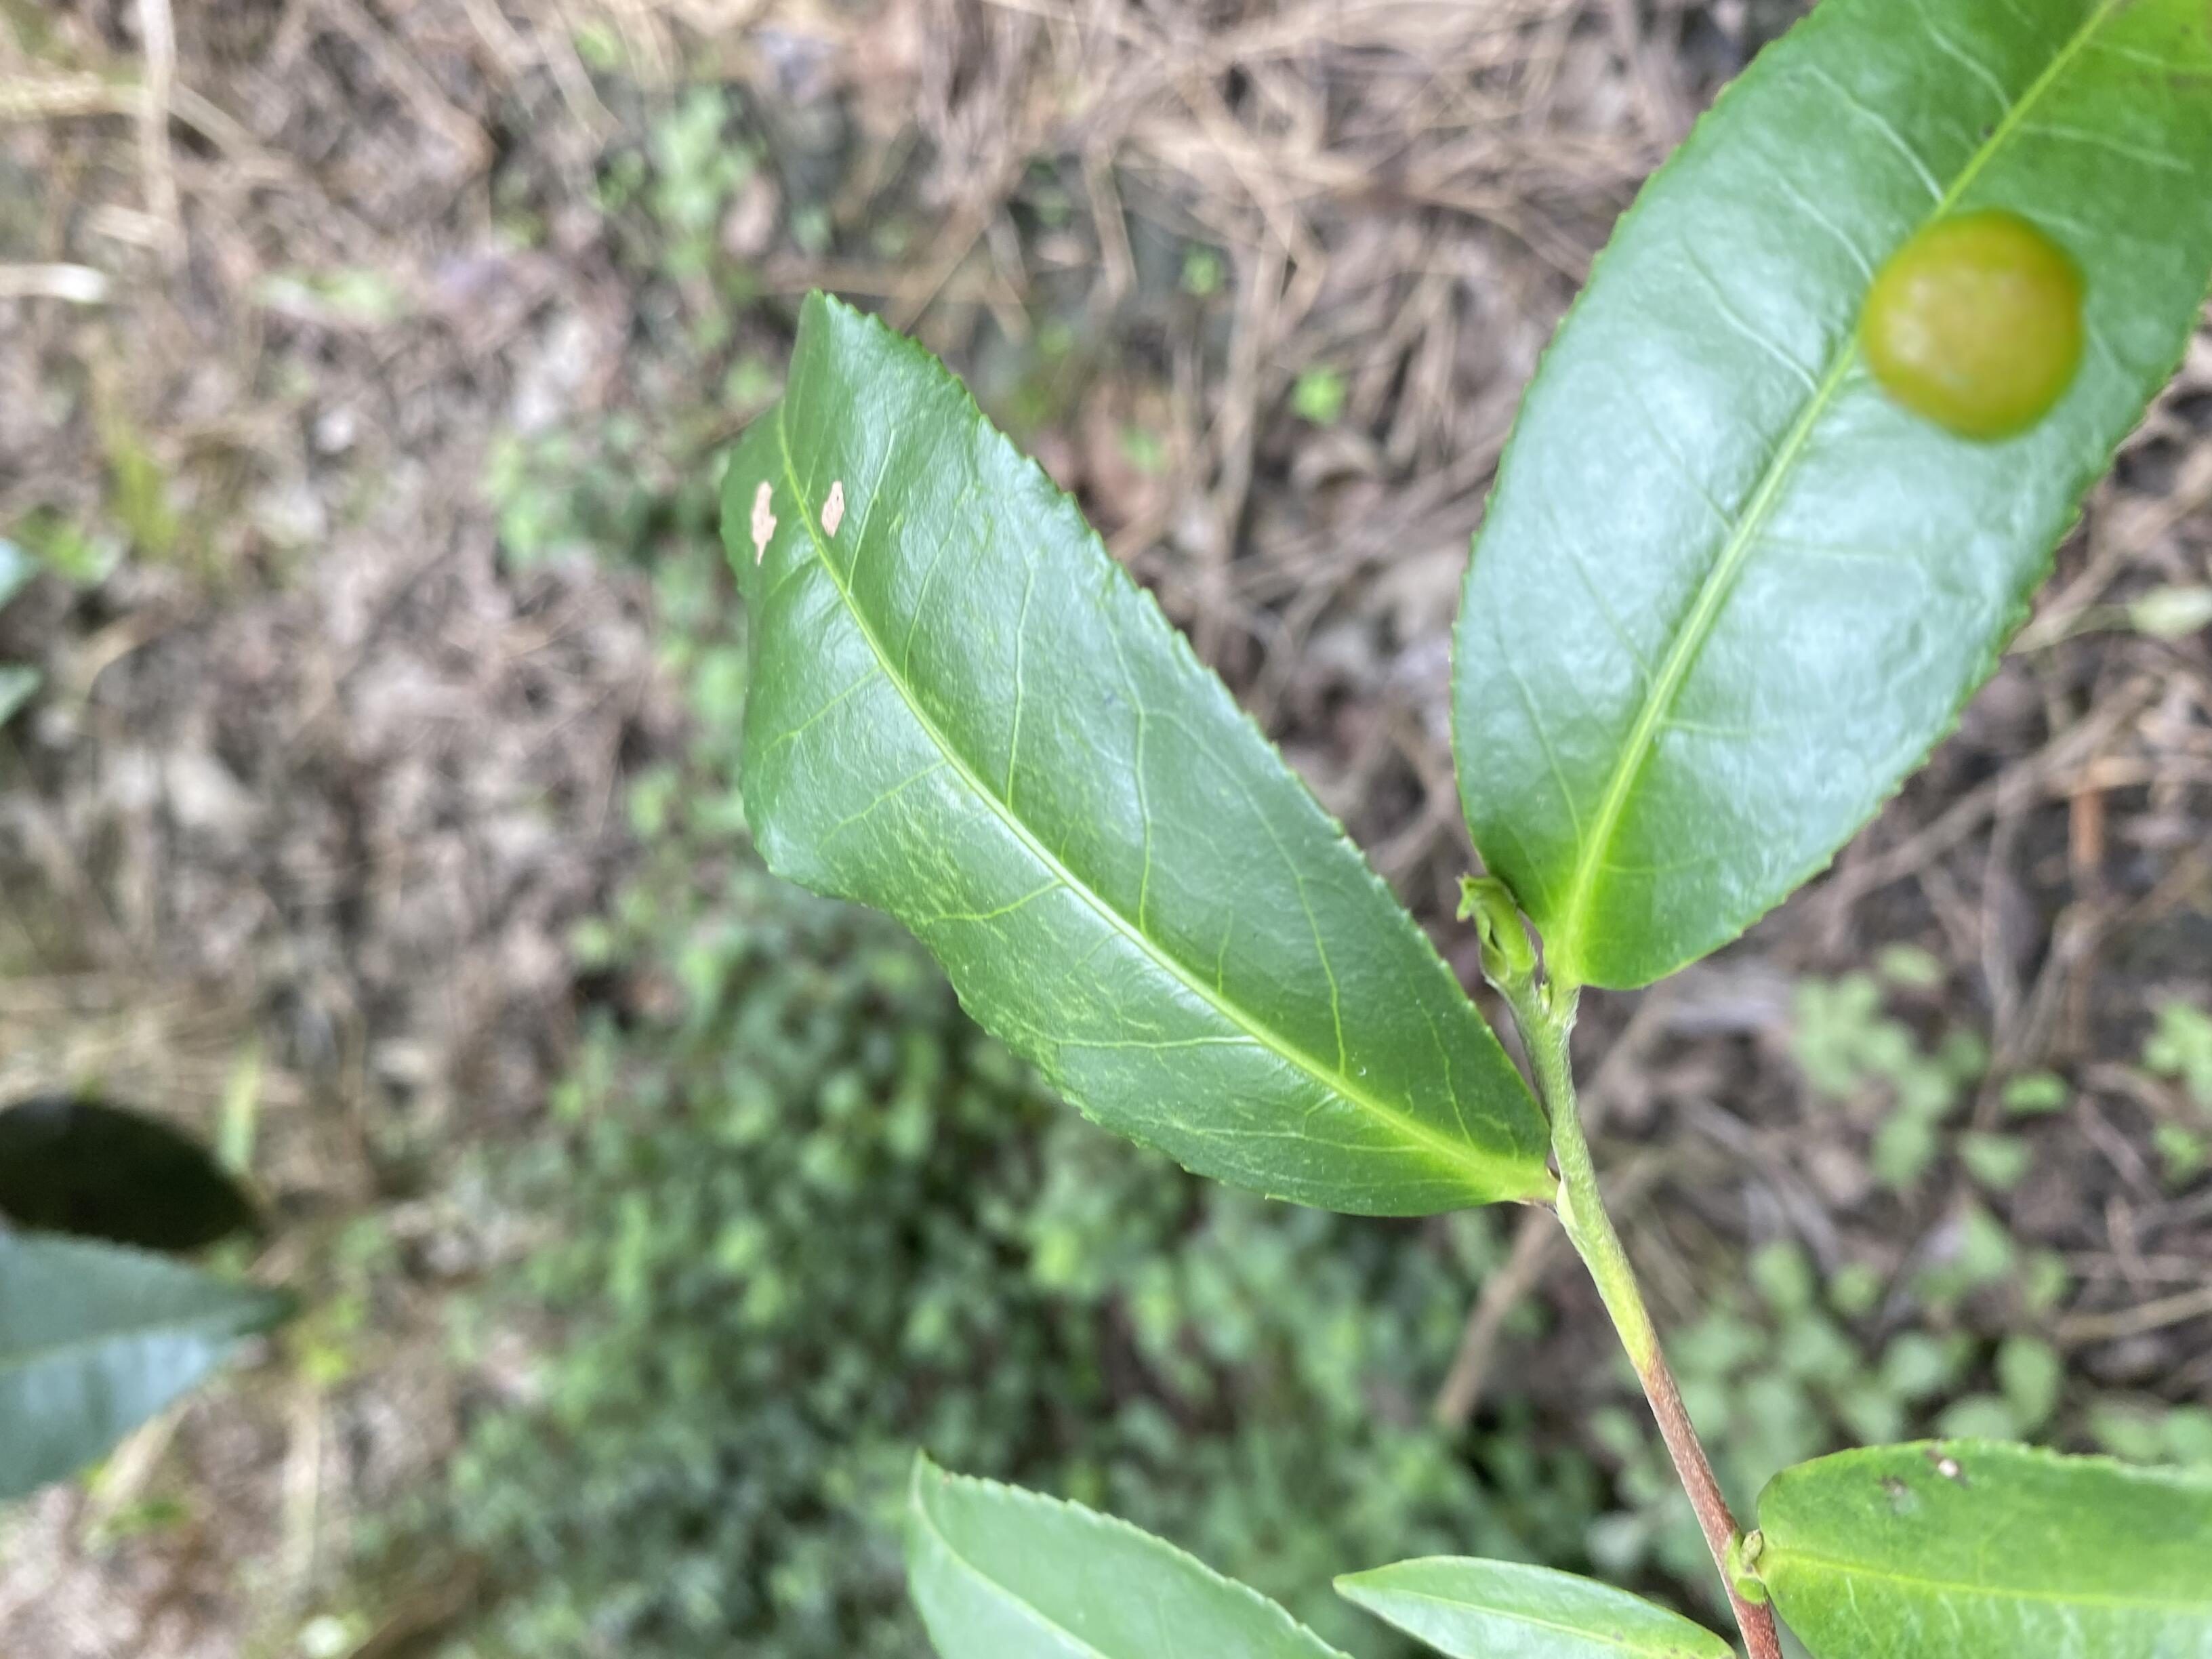chabing_low: (1446, 3, 2207, 997)
tanju_low: (711, 288, 1554, 1220), (1754, 1434, 2209, 1656)
